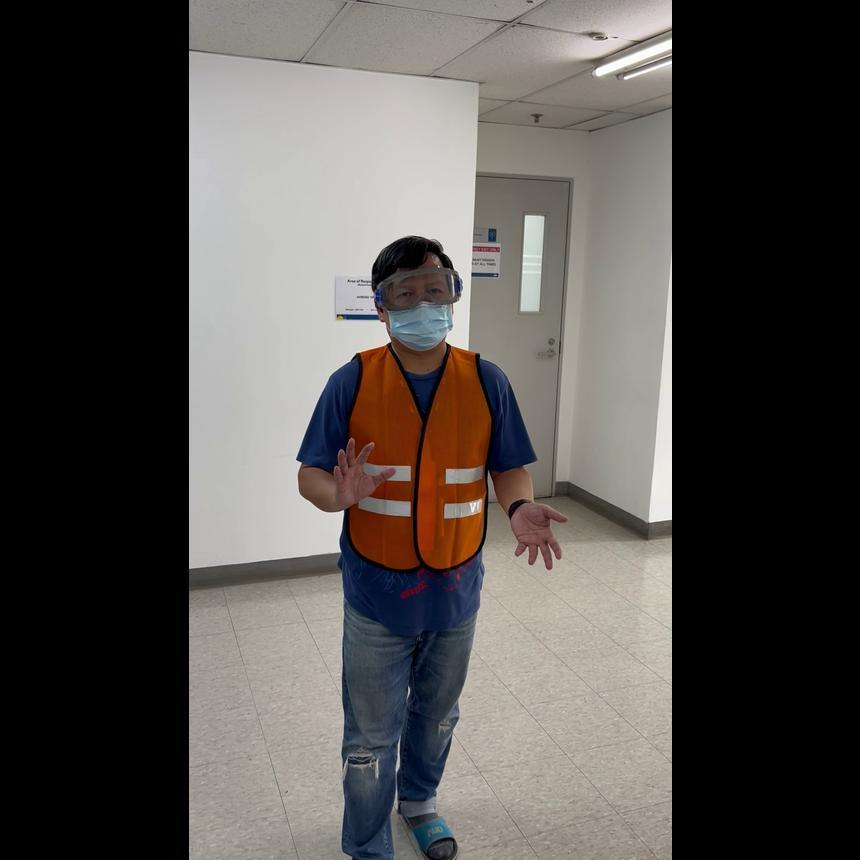No-gloves: (324, 431, 392, 511), (506, 498, 566, 571)
